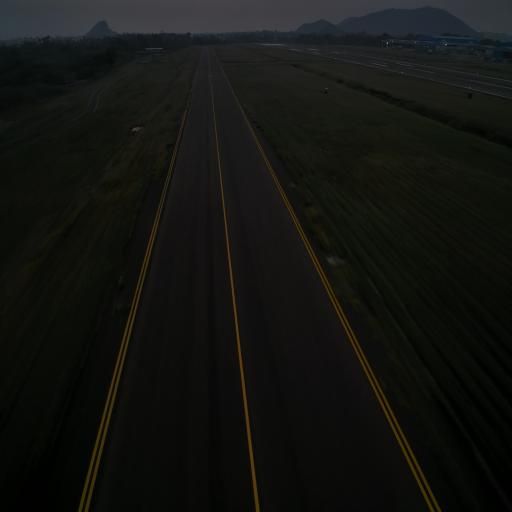on: (329, 252, 335, 264), (118, 273, 124, 284)
